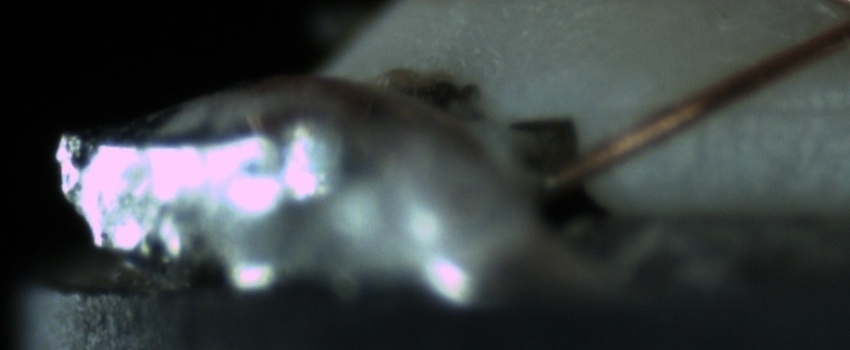DL: (704, 78, 849, 143)
